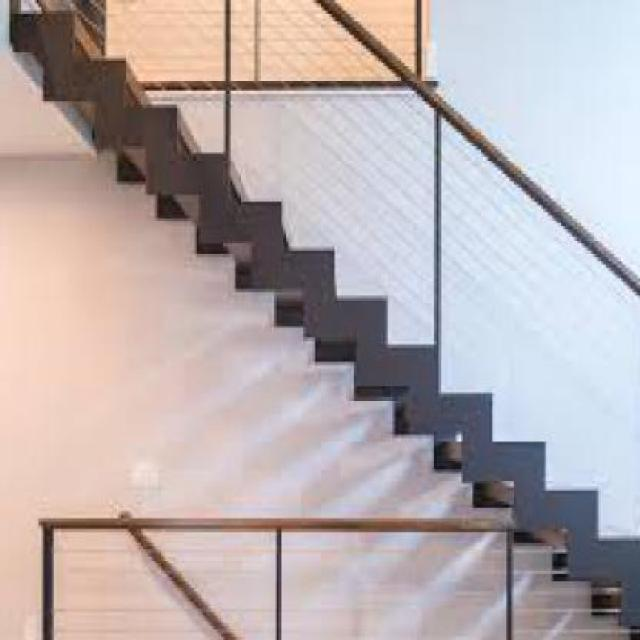stair: (4, 0, 638, 637)
